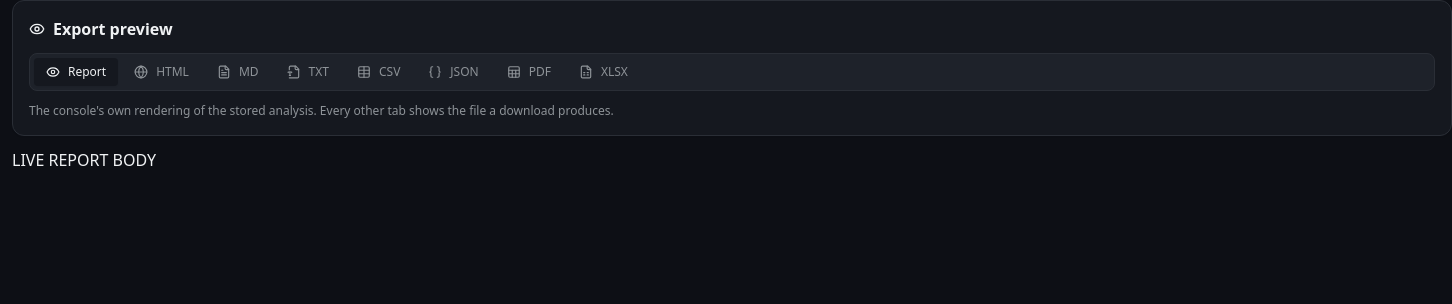
Test case: ReportPreview › shows the text export verbatim
The width and height of the screenshot is (1452, 304).
Click the tab "TXT" at (308, 72), box [275,58,341,86]
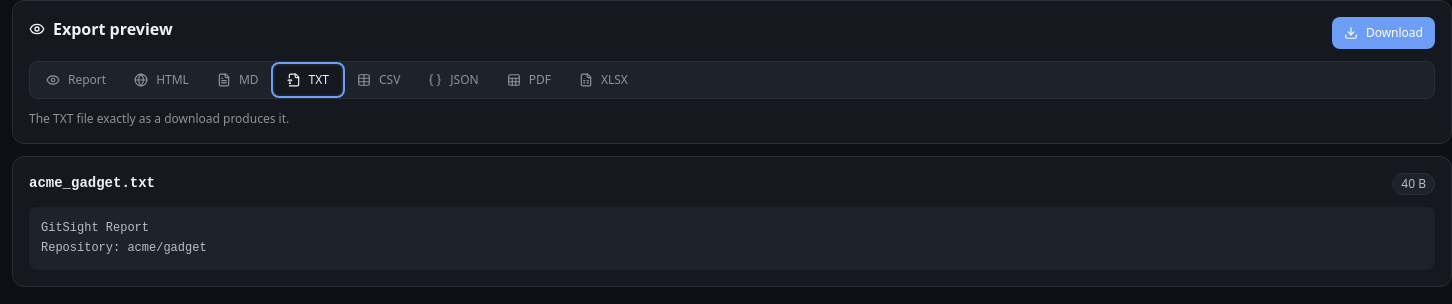
Check: the text "GitSight Report Repository: acme/gadget" is shown, box [29,207,1435,270]
